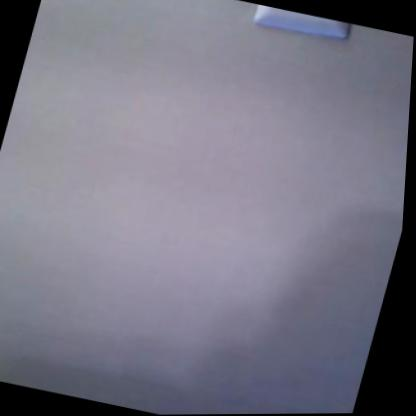OUTLET: (248, 2, 354, 44)
